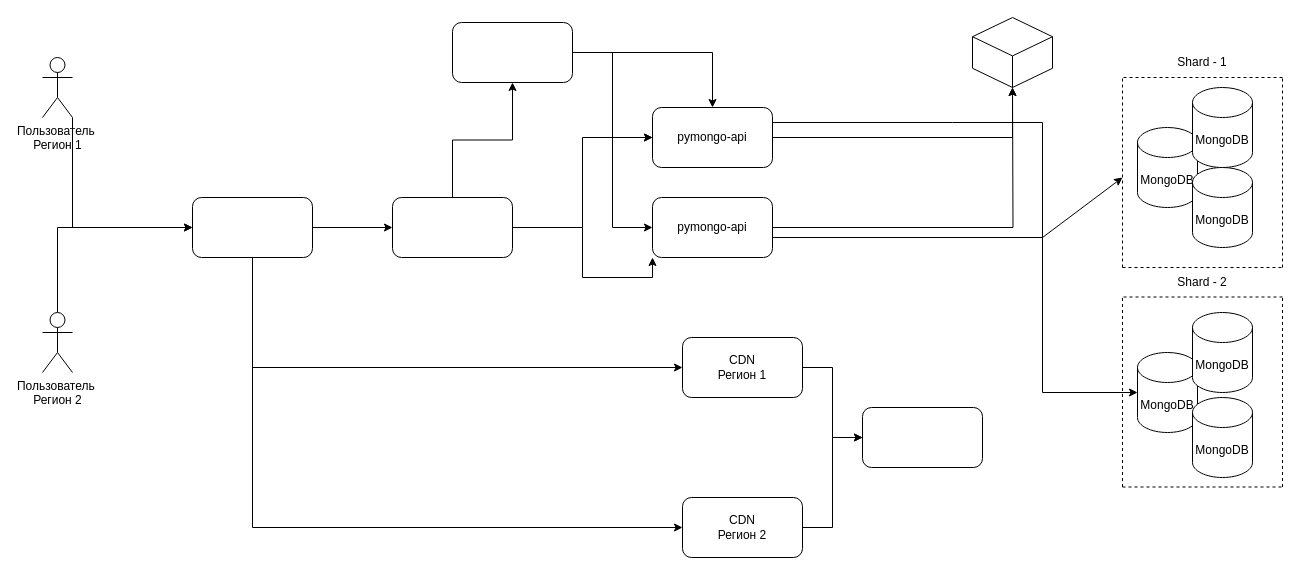
Image size: 1301x575. Some labels were removed from this diagram. The centre of each missing label's shape, as x and y in pixels:
"API Gateway" belongs at point (452, 227).
"Consul" belongs at point (512, 52).
"Redis" belongs at point (1012, 52).
"static files server" belongs at point (922, 437).
"Сайт" belongs at point (252, 227).
